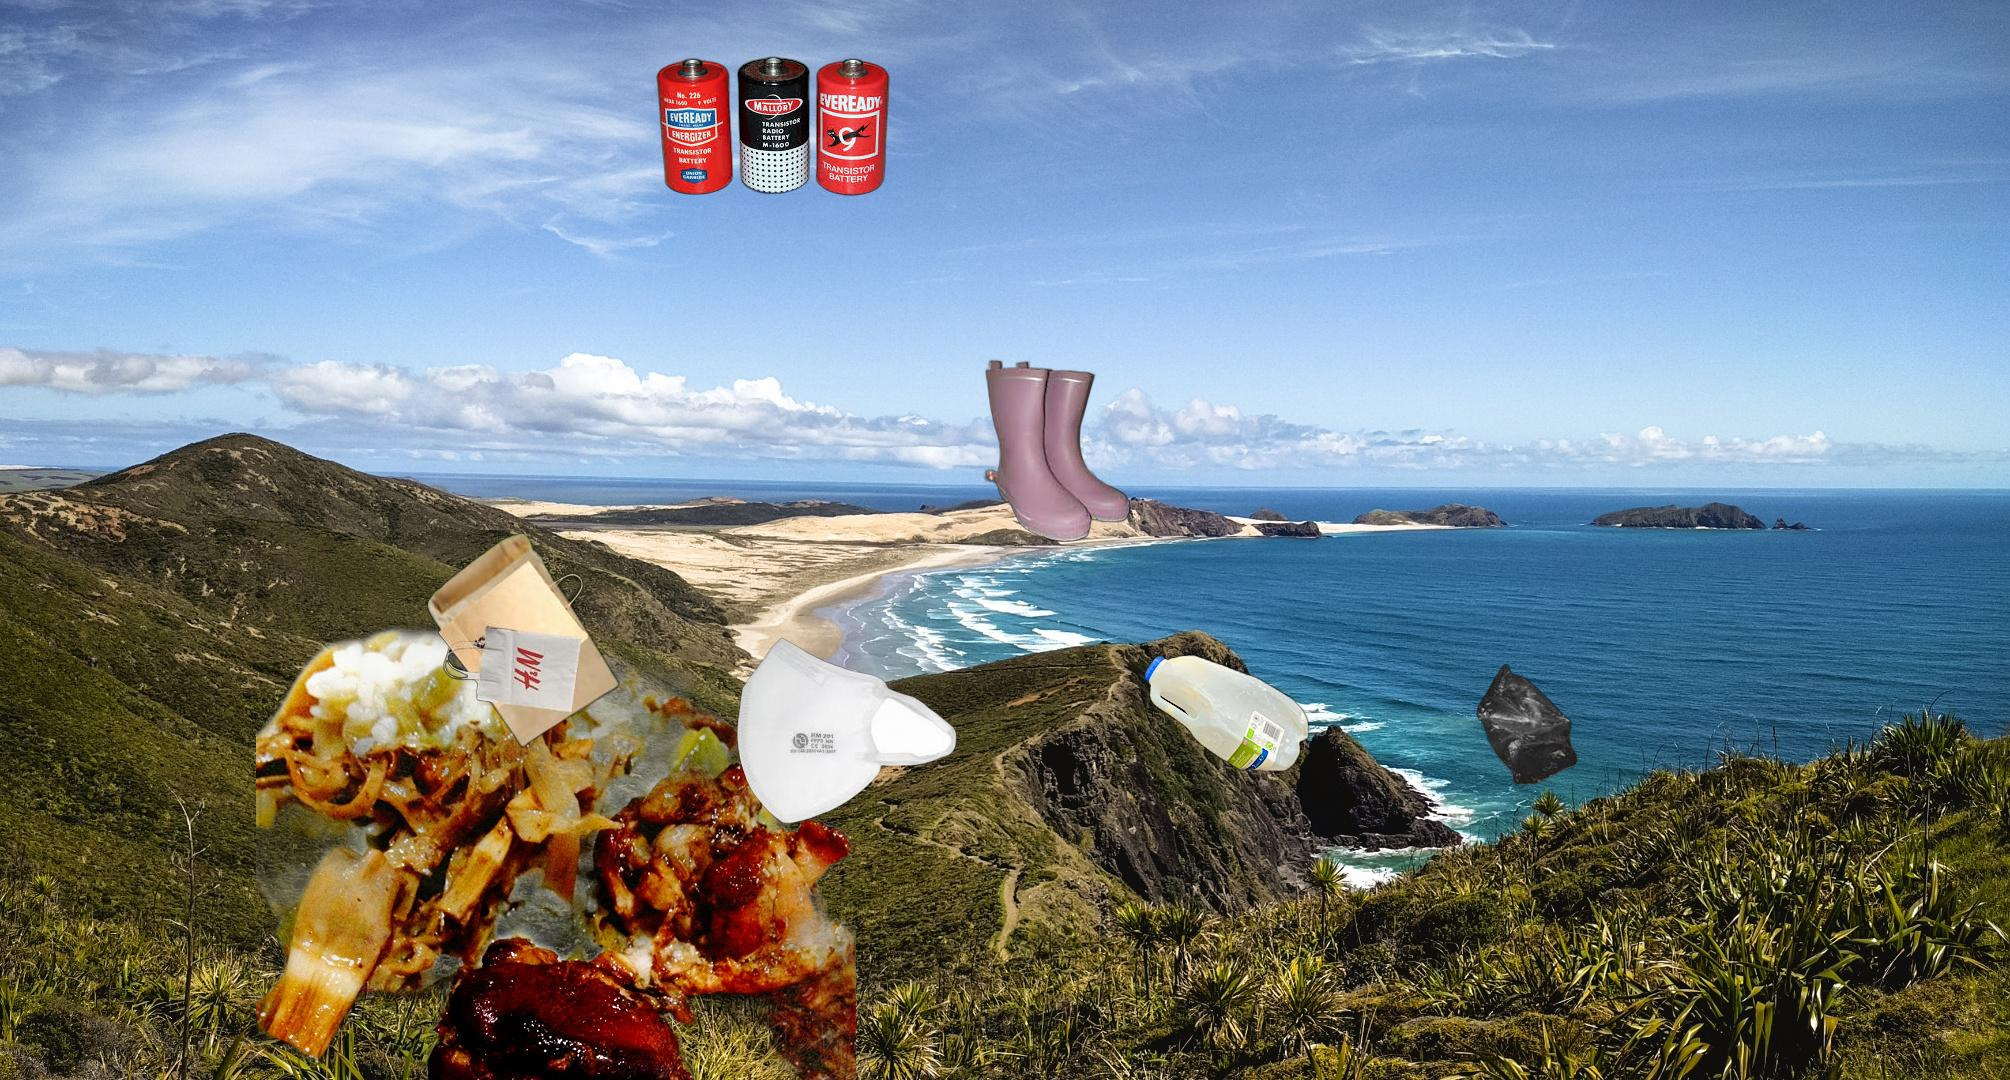battery: (654, 55, 892, 198)
biological: (257, 583, 856, 1080)
paper-bag: (424, 529, 622, 750)
plastic-bag: (1474, 661, 1581, 787)
plastic-bottles: (1141, 649, 1313, 778)
shoes: (970, 356, 1133, 629)
trash: (734, 634, 958, 826)
